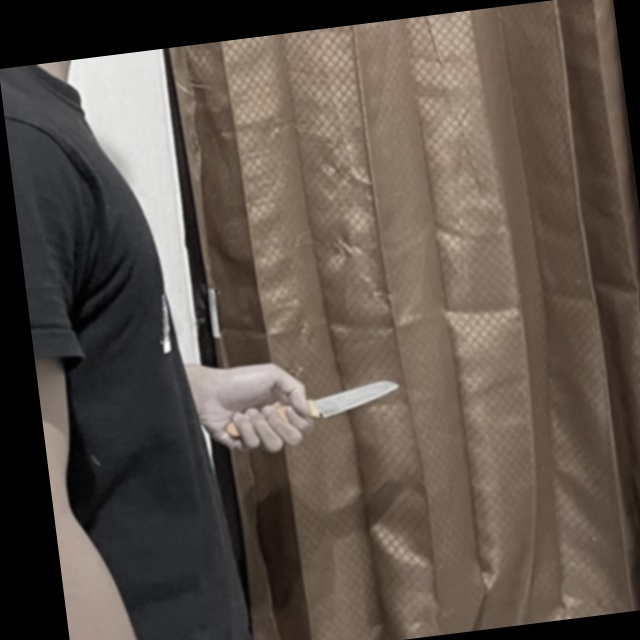Sharp-Object: (221, 376, 405, 443)
